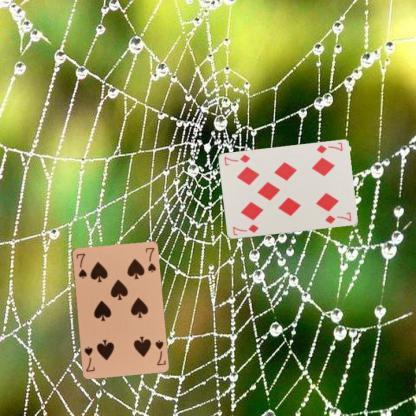7d: (314, 140, 344, 155), (230, 222, 259, 237)
7s: (73, 250, 88, 280), (152, 338, 166, 366)
